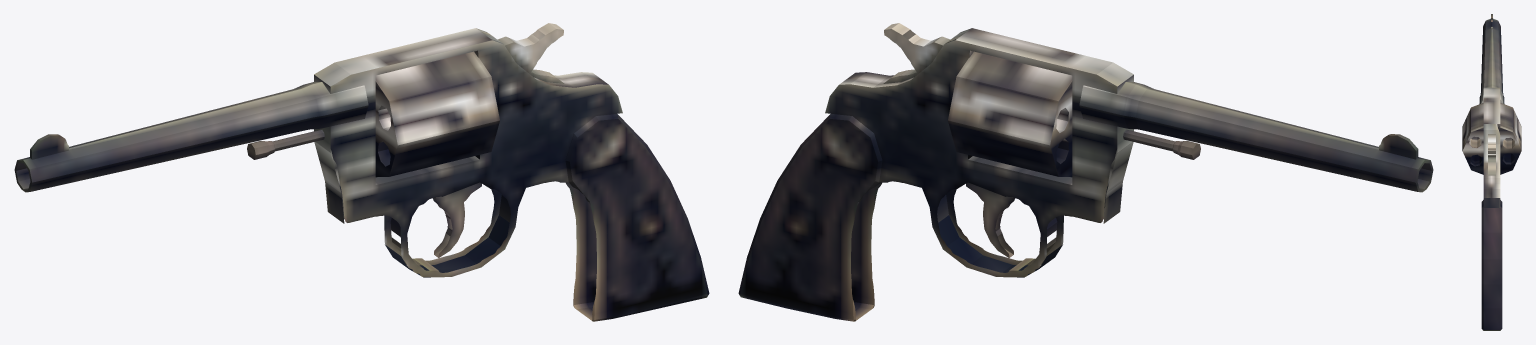
File: Colt32-20.fbx
3 views of the same model, side by side, from view 1: azimuth 30°, elevation 25°; view 2: azimuth 150°, elevation 25°; view 3: azimuth 270°, elevation 25° (orthographic). The views are drawn at different scales.
Parts seen in each view (by area): view 1: Body, Drum Mag, Hammer, Trigger, Pin; view 2: Body, Drum Mag, Hammer, Trigger, Pin; view 3: Body, Drum Mag, Hammer.
Boxes of the visible parts, bbox=[...] form: Body: bbox=[14, 28, 709, 321]; Drum Mag: bbox=[375, 51, 499, 177]; Hammer: bbox=[497, 23, 564, 83]; Trigger: bbox=[432, 182, 481, 257]; Pin: bbox=[247, 129, 324, 159]; Body: bbox=[738, 28, 1433, 321]; Drum Mag: bbox=[948, 51, 1072, 177]; Hammer: bbox=[883, 23, 952, 83]; Trigger: bbox=[966, 182, 1015, 257]; Pin: bbox=[1123, 129, 1200, 159]; Body: bbox=[1479, 14, 1504, 330]; Drum Mag: bbox=[1462, 103, 1521, 174]; Hammer: bbox=[1488, 134, 1495, 175].
Bounding box in the file's own units: 425 × 189 × 64.12.
Materials: 1 (1 with a texture image).
